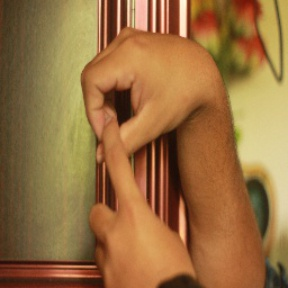Q: (76, 26, 218, 261)
